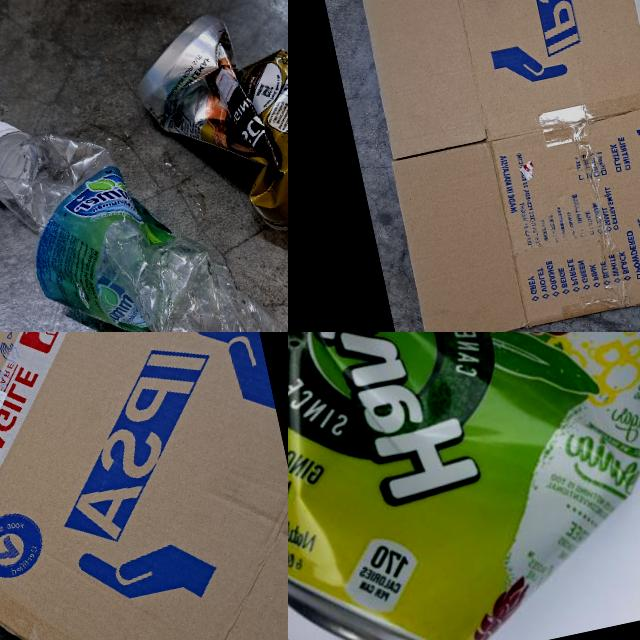caixinha: (0, 332, 288, 640)
garrafa plástica: (0, 82, 288, 332)
lata: (288, 332, 640, 640), (129, 0, 288, 255)
papelão: (333, 0, 640, 332)
tampa plástica: (0, 115, 30, 197)
